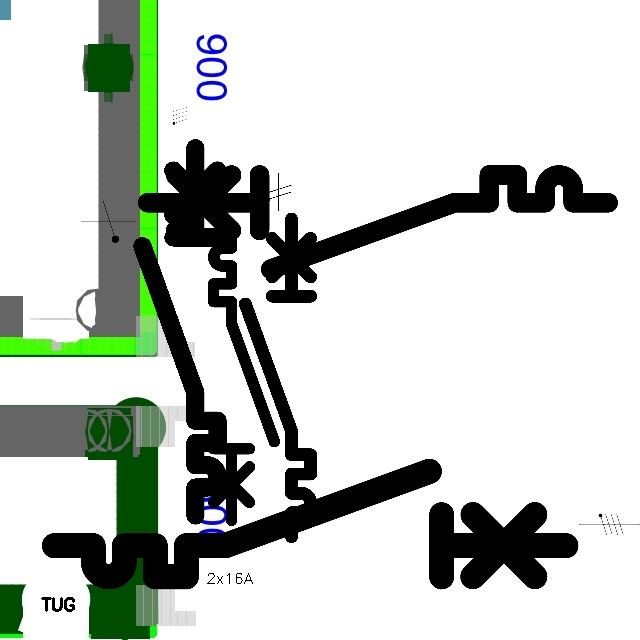interruptor_termomagnetico: (41, 458, 579, 590), (135, 163, 619, 281), (133, 138, 227, 525), (237, 210, 319, 545), (206, 218, 282, 528)
